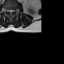CCS_normal: (9, 8, 11, 16)
LFS_normal: (13, 8, 15, 14)
LLS_stenosis: (11, 8, 13, 13)
RFS_stenosis: (6, 8, 7, 13)
RLS_stenosis: (7, 8, 9, 13)
